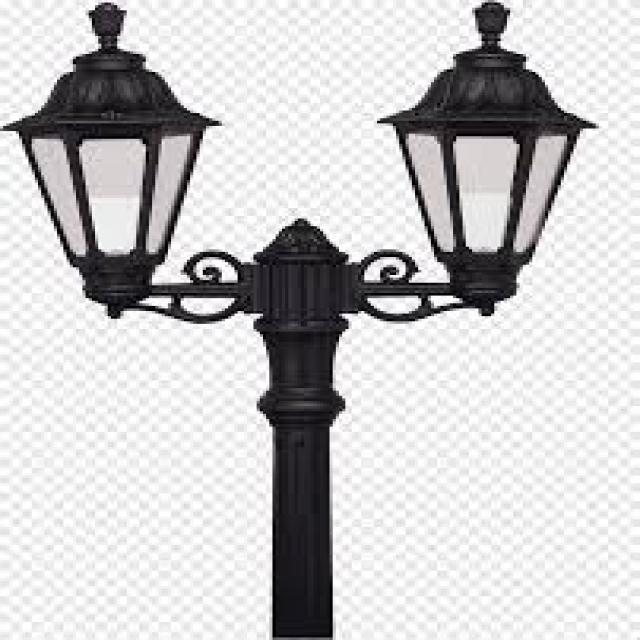Street Light: (3, 2, 595, 640)
